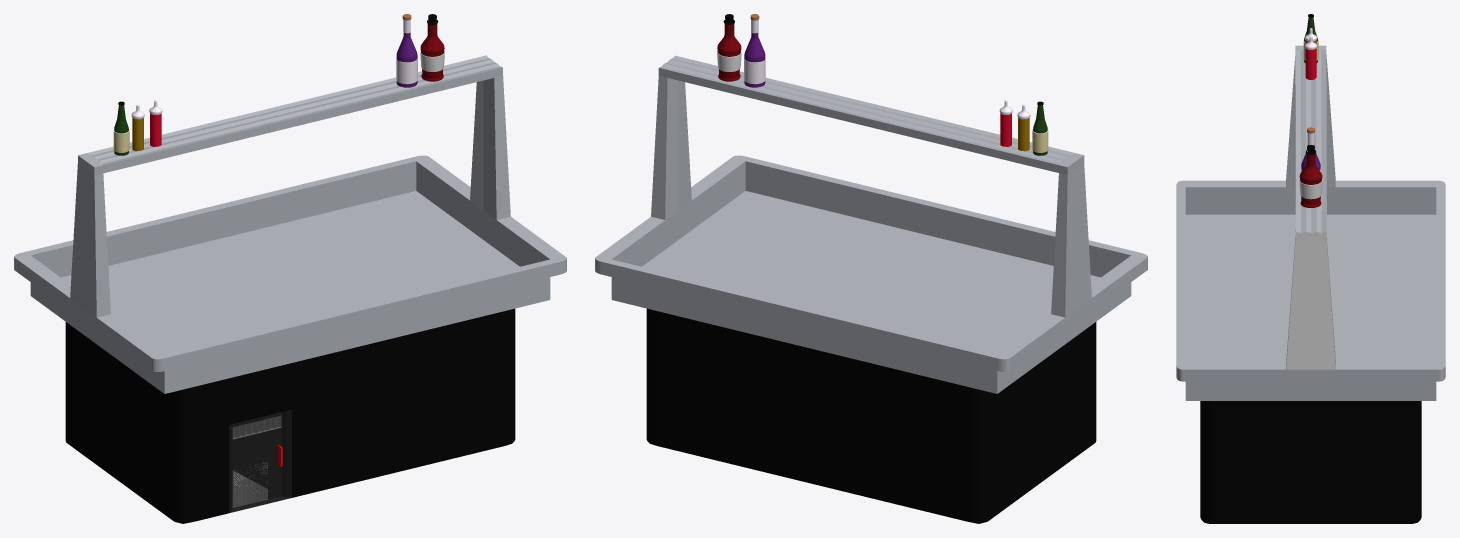
File: Bancada Self-Service Finalizada.fbx
The picture shows the model from 3 angles, left to right: view 1: azimuth 30°, elevation 25°; view 2: azimuth 150°, elevation 25°; view 3: azimuth 270°, elevation 25°; orthographic projection. The views are drawn at different scales.
Visible parts, largest first — view 1: Mesa Self-Service, Bottle_2, Bottle_4_1, Bottle_6; view 2: Mesa Self-Service, Bottle_2, Bottle_4_1, Bottle_6; view 3: Mesa Self-Service, Bottle_2, Ketchup.
Boxes of the visible parts, <box> form: Mesa Self-Service: <box>14,55,566,523</box>; Bottle_2: <box>420,14,444,81</box>; Bottle_4_1: <box>396,14,417,87</box>; Bottle_6: <box>113,101,129,155</box>; Mesa Self-Service: <box>595,55,1147,523</box>; Bottle_2: <box>717,14,741,81</box>; Bottle_4_1: <box>744,14,765,87</box>; Bottle_6: <box>1032,101,1048,155</box>; Mesa Self-Service: <box>1176,45,1445,523</box>; Bottle_2: <box>1299,145,1322,207</box>; Ketchup: <box>1305,36,1316,79</box>.
Bounding box in the file's own units: 1799 × 1707 × 1083.
